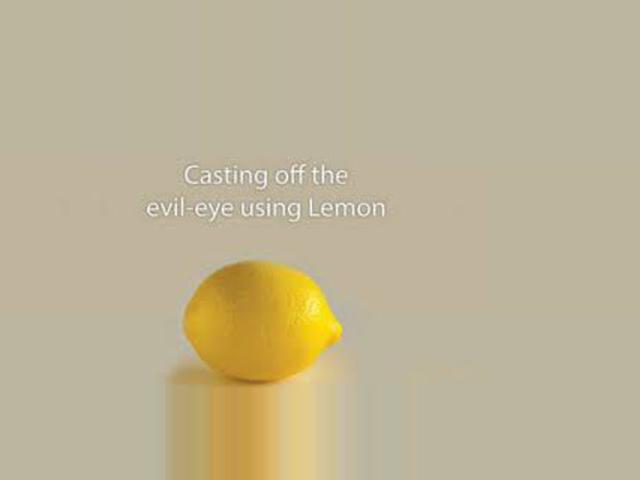lemon: (177, 253, 340, 374)
